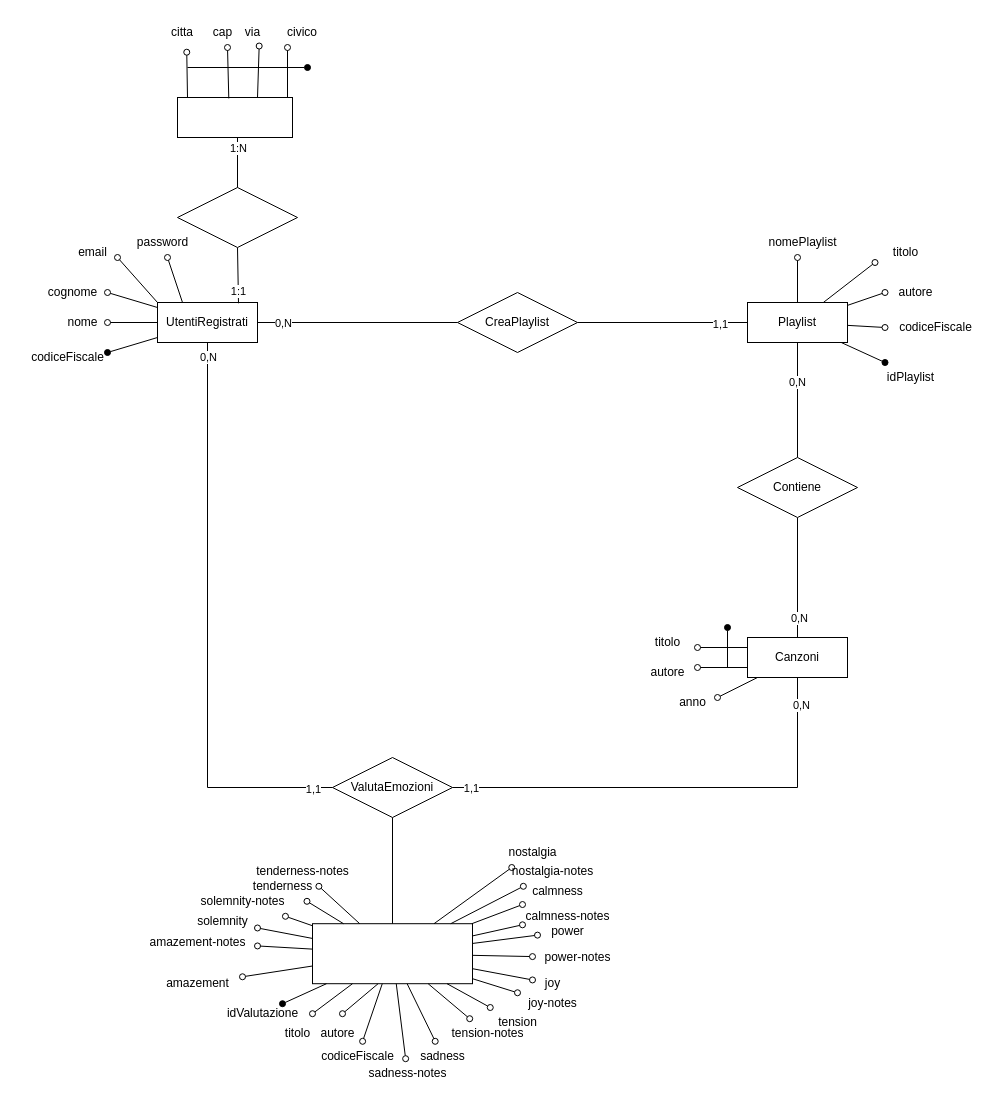
This 1002x1106 diagram has some shape labels left out. Here are the shapes that lost their labels. From the top down, the box of each, then its label:
(176, 96, 292, 138): Indirizzo
(176, 186, 298, 248): Possiede
(312, 923, 472, 984): EmozioniCanzone
